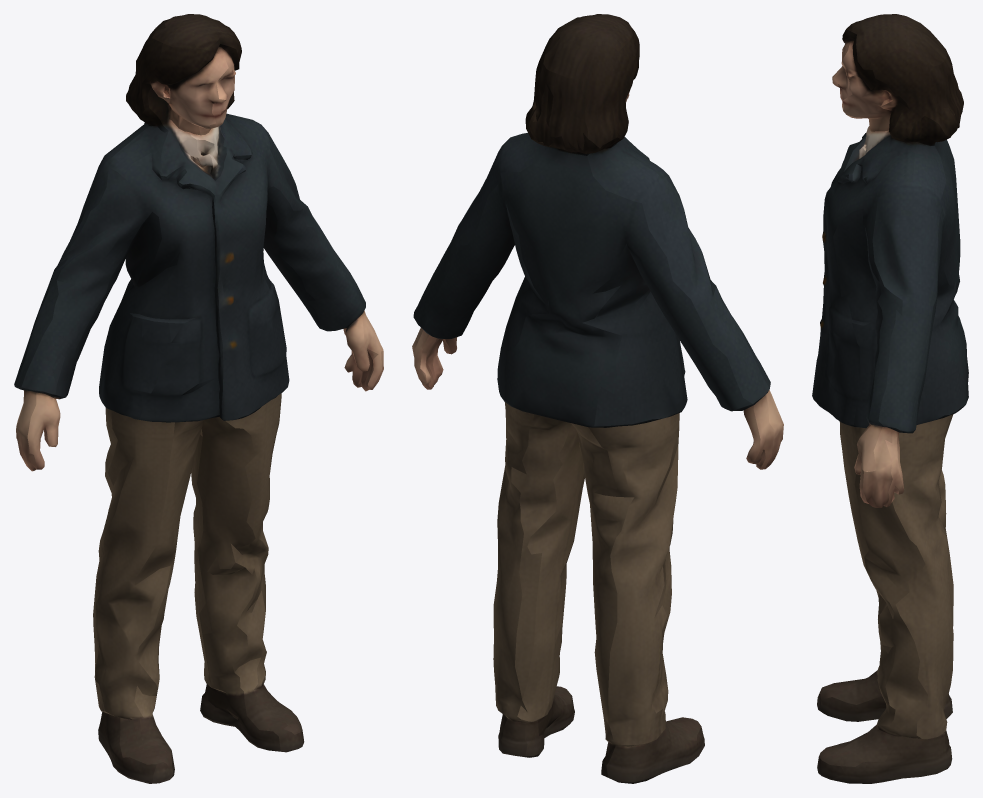
3 views of the same model, side by side, from view 1: azimuth 30°, elevation 25°; view 2: azimuth 150°, elevation 25°; view 3: azimuth 270°, elevation 25° (orthographic).
Visible parts, largest first — view 1: world; view 2: world; view 3: world.
Boxes of the visible parts, <box> form: world: <box>14,14,383,783</box>; world: <box>412,14,783,783</box>; world: <box>812,14,968,783</box>.
Size of the model in its own units: 0.5213 by 1 by 0.1975.
Materials: 1 (1 with a texture image).
